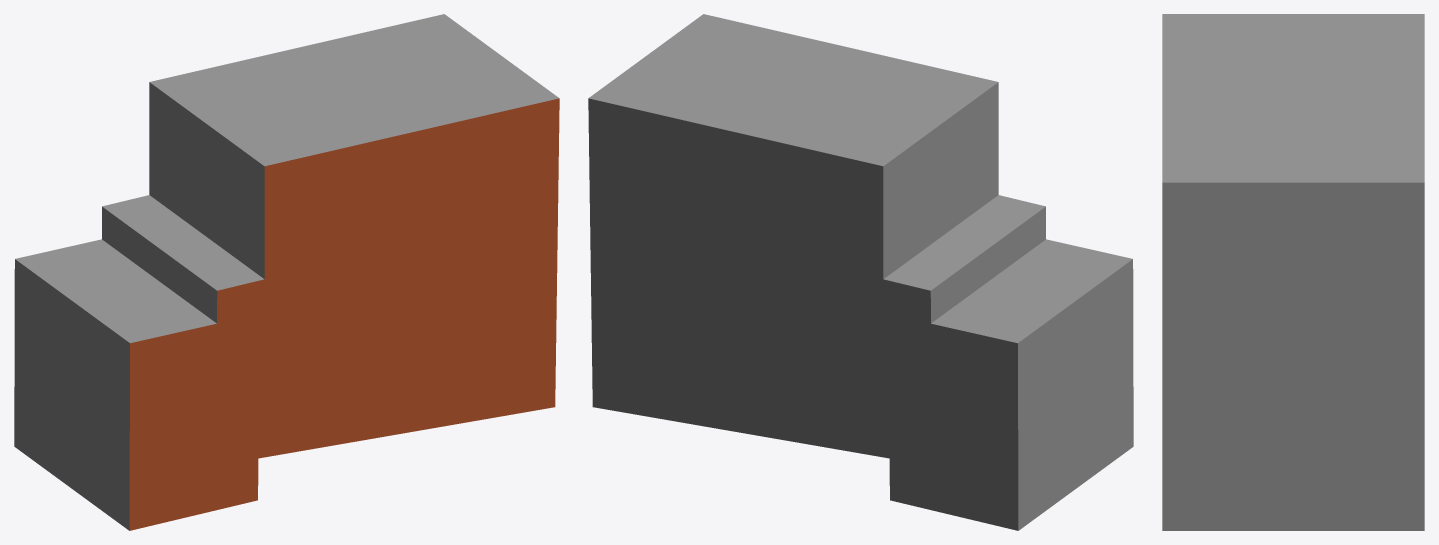
The model's file is construction_5377_assumed_A_Casa_h6m.obj.
3 renders of one model, left to right at view 1: azimuth 30°, elevation 25°; view 2: azimuth 150°, elevation 25°; view 3: azimuth 270°, elevation 25°, orthographic. The views are drawn at different scales.
Visible parts, largest first — view 1: construction_5377_assumed_A_Casa; view 2: construction_5377_assumed_A_Casa; view 3: construction_5377_assumed_A_Casa.
Part boxes in pixels (x1,y1,x2,y2): construction_5377_assumed_A_Casa: (14, 14, 559, 530); construction_5377_assumed_A_Casa: (588, 14, 1133, 530); construction_5377_assumed_A_Casa: (1162, 14, 1424, 530).
Size of the model in its own units: 12.93 by 9.55 by 6.
